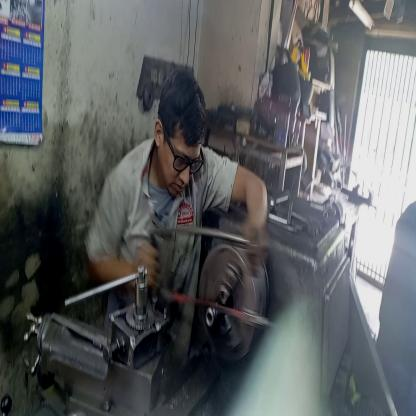lentes: (164, 128, 204, 180)
